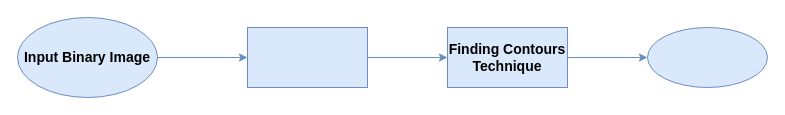
The diagram is 785 pixels wide and 115 high, and some of its shapes have lost their labels. Each missing label, with the centre of its shape:
"Mathematical Morphology Technique" belongs at [307,57].
"Text Lines" belongs at [707,57].
